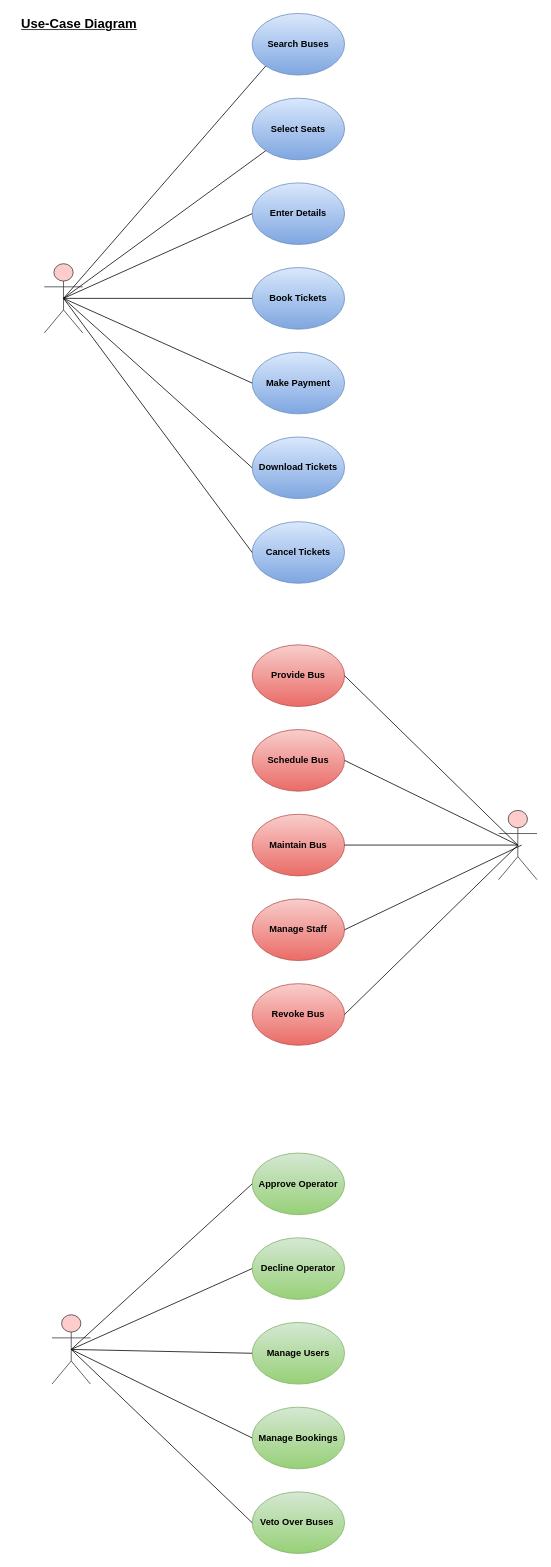
Image size: 551x1567. Some labels were removed from this diagram. Here are the shapes that lost their labels. From the top down, the centre of each, then its label:
At pixel 63 298: "User".
At pixel 517 845: "Operator".
At pixel 70 1349: "Admin".
